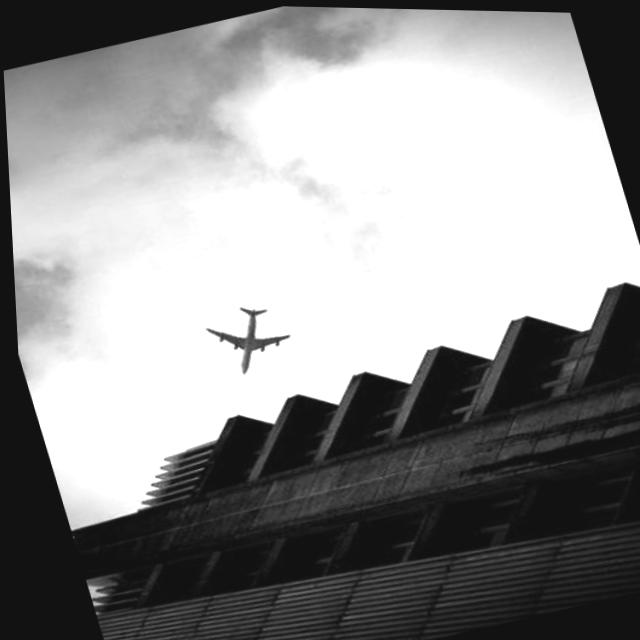aeroplane: (194, 295, 294, 381)
